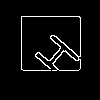H: (25, 25, 83, 82)
